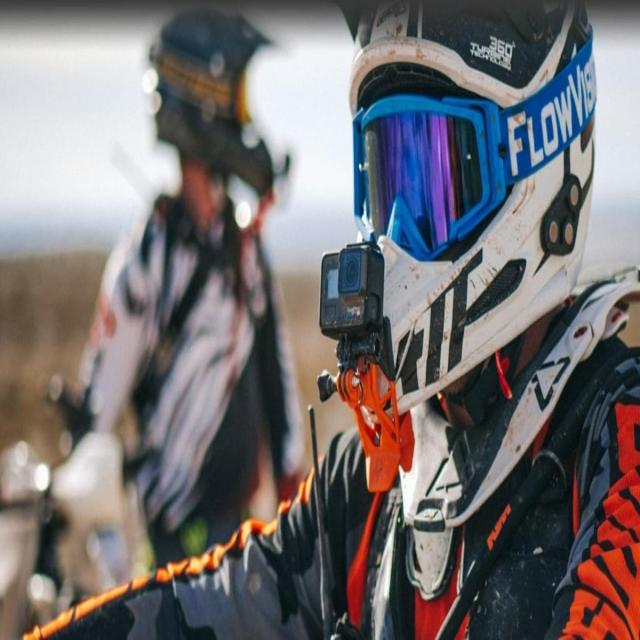illegal_helmet: (314, 0, 602, 501)
